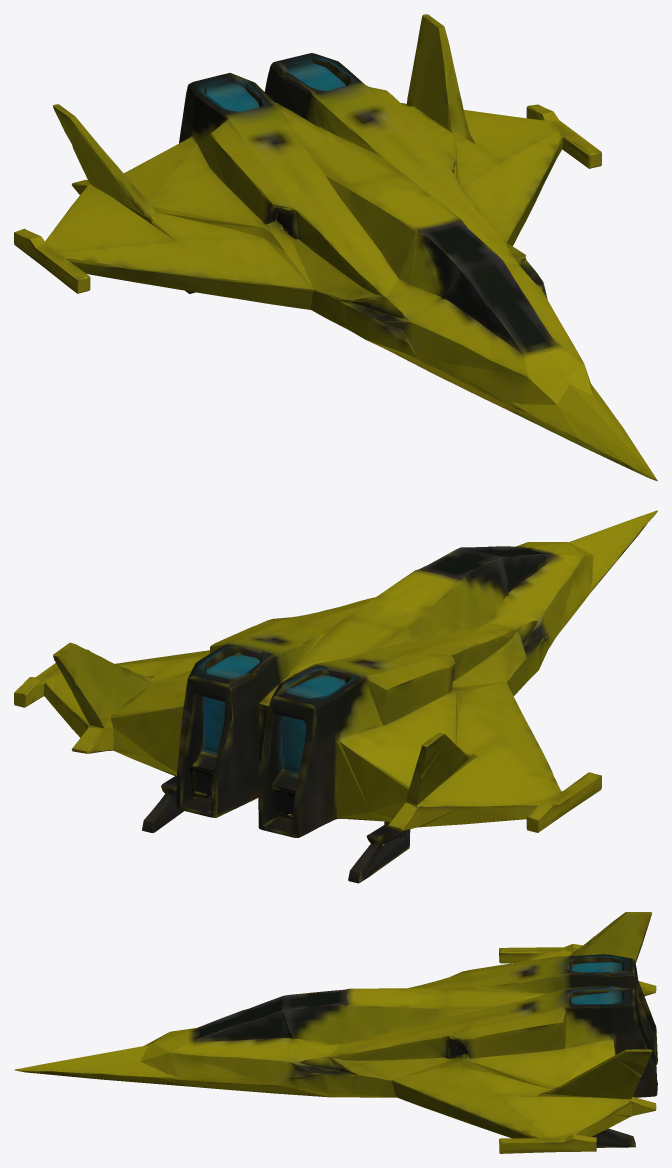
3 views of the same model, one above another, from view 1: azimuth 30°, elevation 25°; view 2: azimuth 150°, elevation 25°; view 3: azimuth 270°, elevation 25° (orthographic). The views are drawn at different scales.
Parts seen in each view (by area): view 1: world; view 2: world, object 2; view 3: world.
Boxes of the visible parts, bbox=[...] form: world: bbox=[14, 14, 657, 481]; world: bbox=[14, 510, 657, 883]; object 2: bbox=[189, 763, 294, 817]; world: bbox=[14, 912, 657, 1153].
Size of the model in its own units: 0.7189 by 0.2186 by 1.
Materials: 2 (1 with a texture image).
